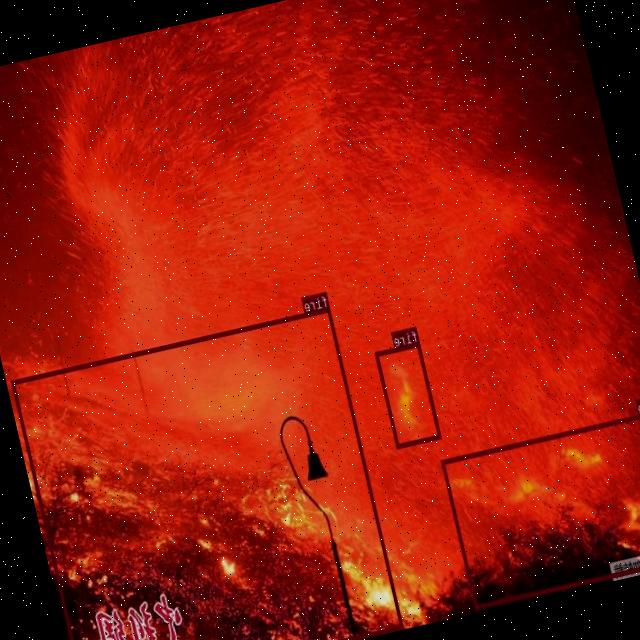fire: (11, 306, 404, 640), (440, 407, 640, 608), (376, 341, 442, 447)
